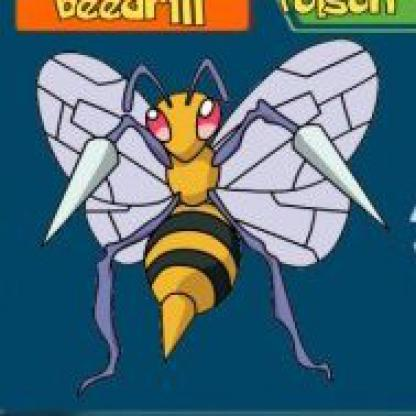Beedrill: (22, 25, 389, 395)
